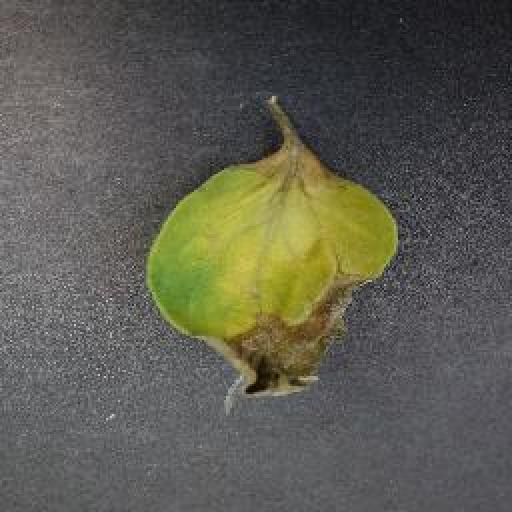Late Blight: (149, 142, 400, 414)
